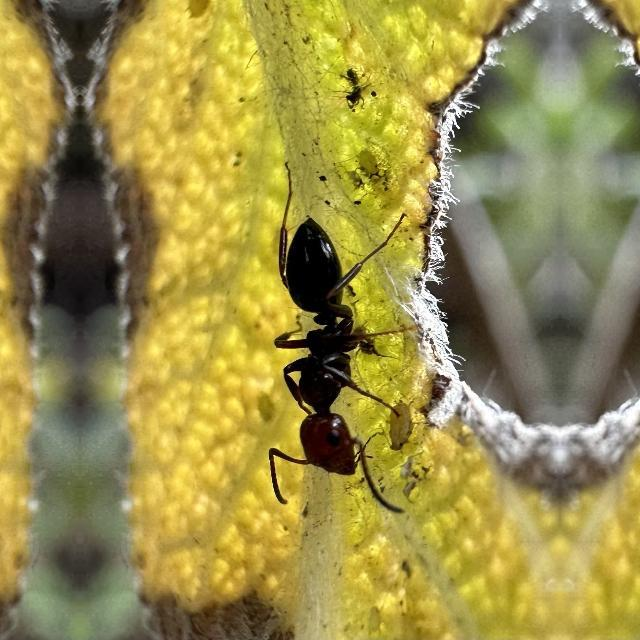Camponotus: (268, 208, 384, 497)
